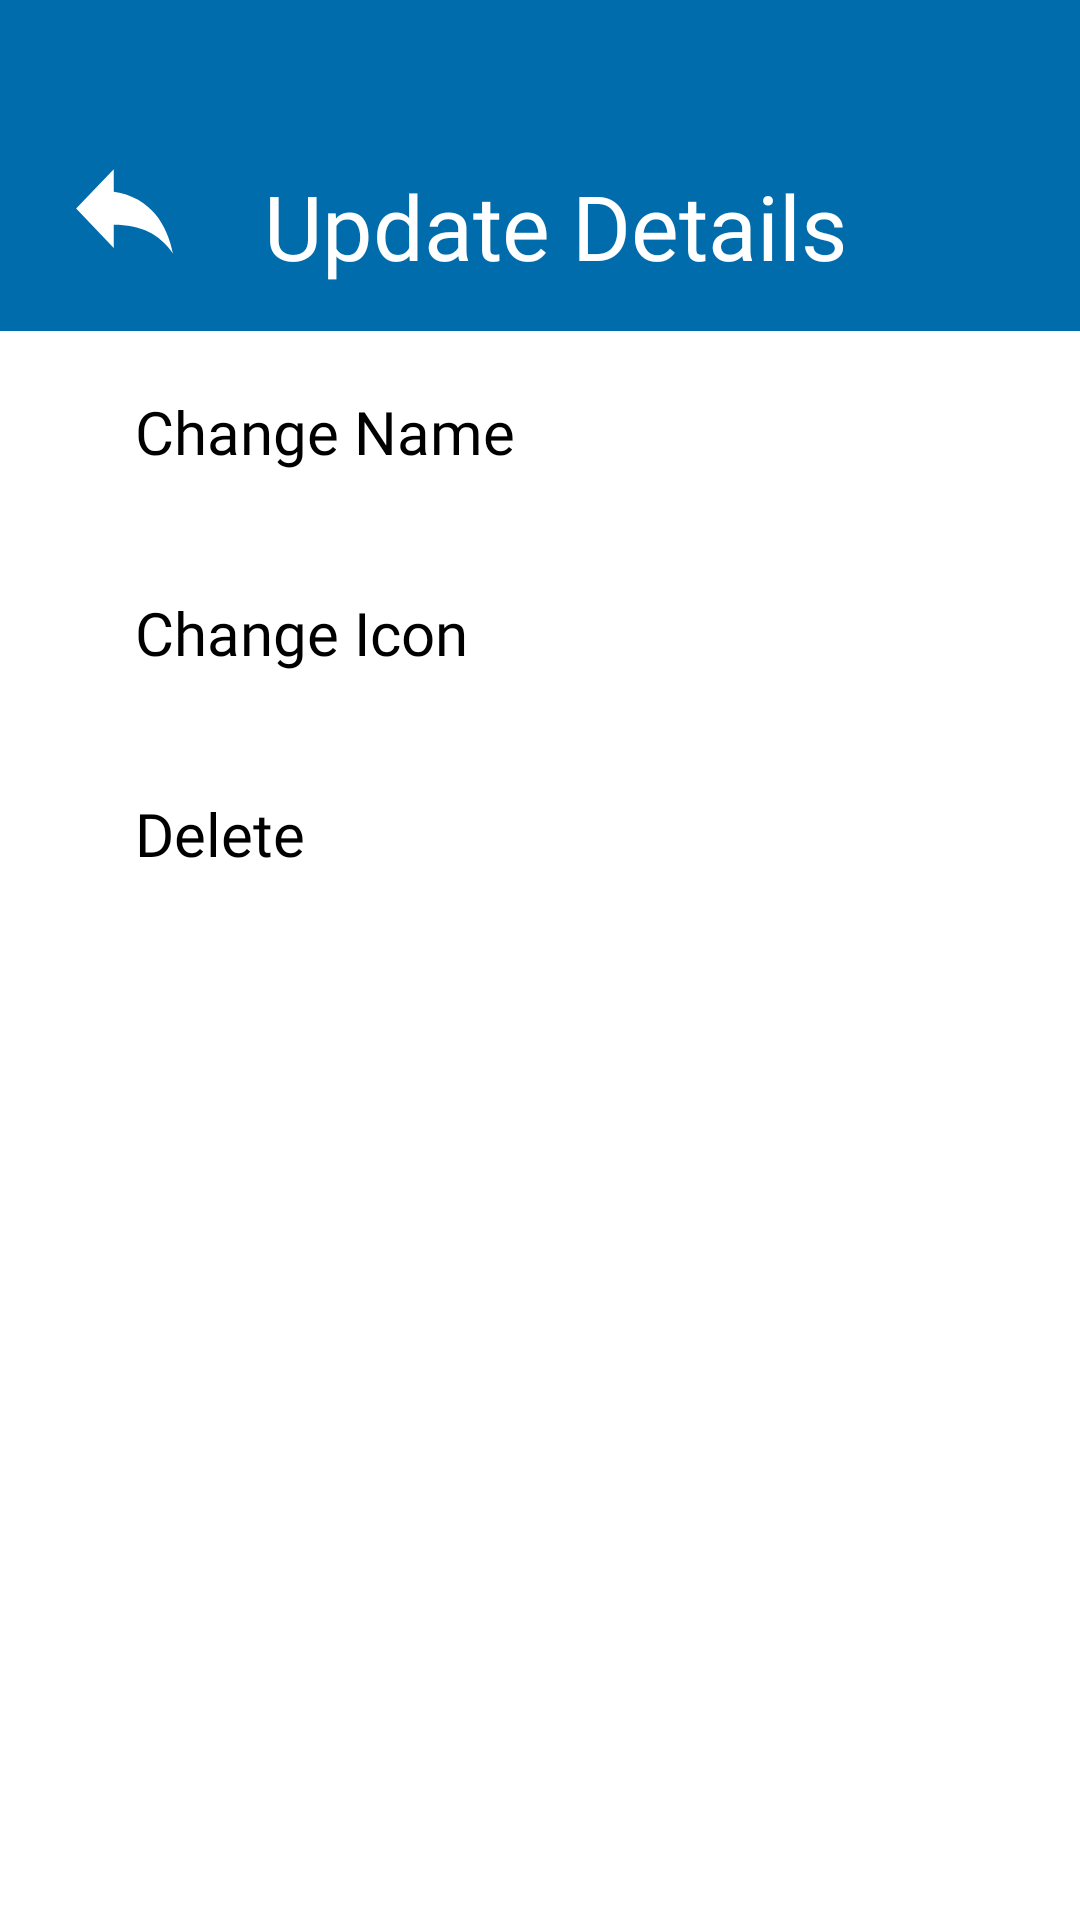

Screen size 1080w x 1920h. Icon name, then its box in pixels as (x1, y1, x2, y2):
back: (76, 169, 173, 253)
